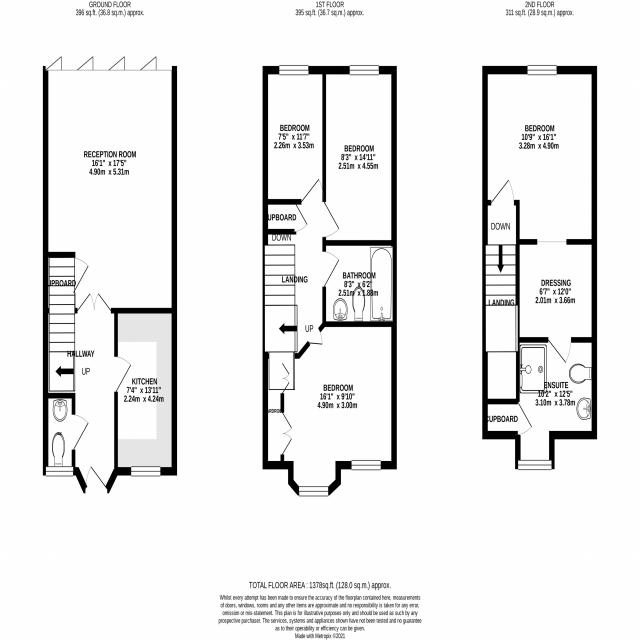DOOR: (84, 464, 111, 494), (71, 412, 90, 451), (547, 336, 572, 365), (113, 355, 132, 393), (301, 177, 326, 205), (490, 178, 515, 206), (322, 201, 340, 239), (322, 250, 340, 288), (307, 326, 323, 345)
DOUBLE DOOR: (76, 290, 112, 314), (280, 410, 293, 455)
FOLDING DOOR: (43, 54, 173, 72)
ROOM: (42, 54, 178, 314), (482, 64, 597, 363), (280, 320, 397, 497), (322, 64, 397, 246), (114, 307, 178, 476), (262, 64, 326, 205)
WINDOW: (517, 458, 552, 471), (278, 64, 309, 77), (130, 465, 162, 477), (45, 465, 74, 478), (349, 64, 380, 76), (351, 459, 382, 471), (298, 485, 329, 497), (527, 64, 557, 76)
